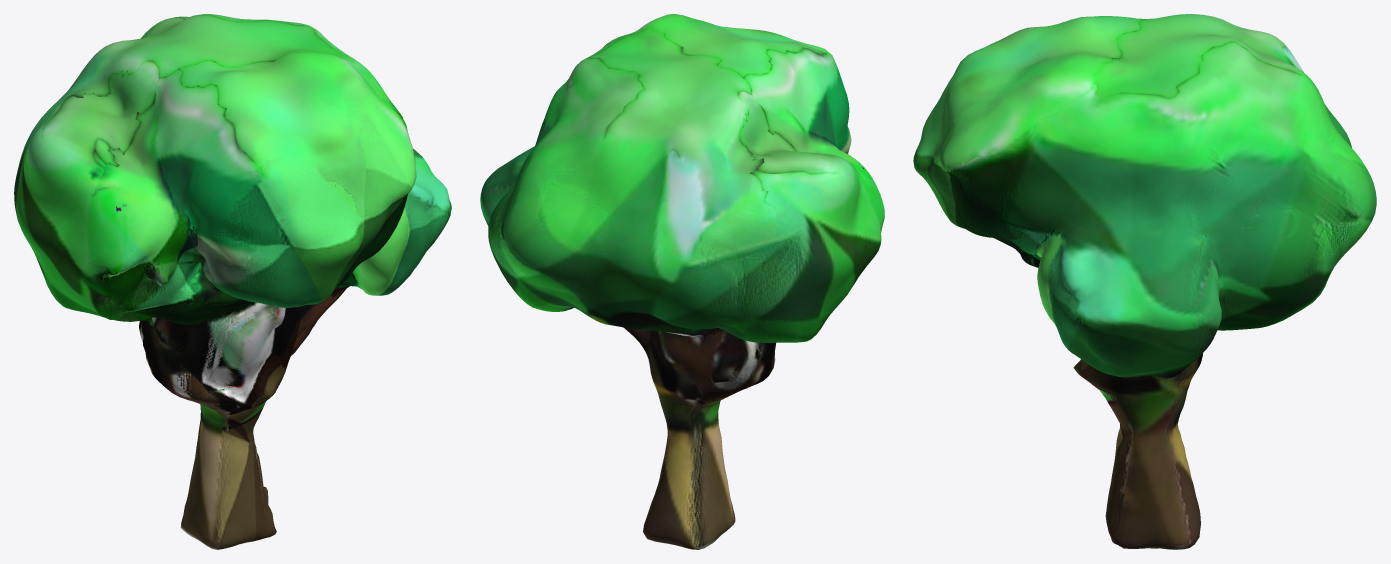
The picture shows the model from 3 angles, left to right: view 1: azimuth 30°, elevation 25°; view 2: azimuth 150°, elevation 25°; view 3: azimuth 270°, elevation 25°; orthographic projection. The views are drawn at different scales.
Parts seen in each view (by area): view 1: model.obj; view 2: model.obj; view 3: model.obj.
Boxes of the visible parts, <box> form: model.obj: <box>14,14,451,549</box>; model.obj: <box>480,14,884,549</box>; model.obj: <box>913,14,1376,549</box>.
Size of the model in its own units: 0.8632 by 1.05 by 0.8773.
1 material, 1 textured.
